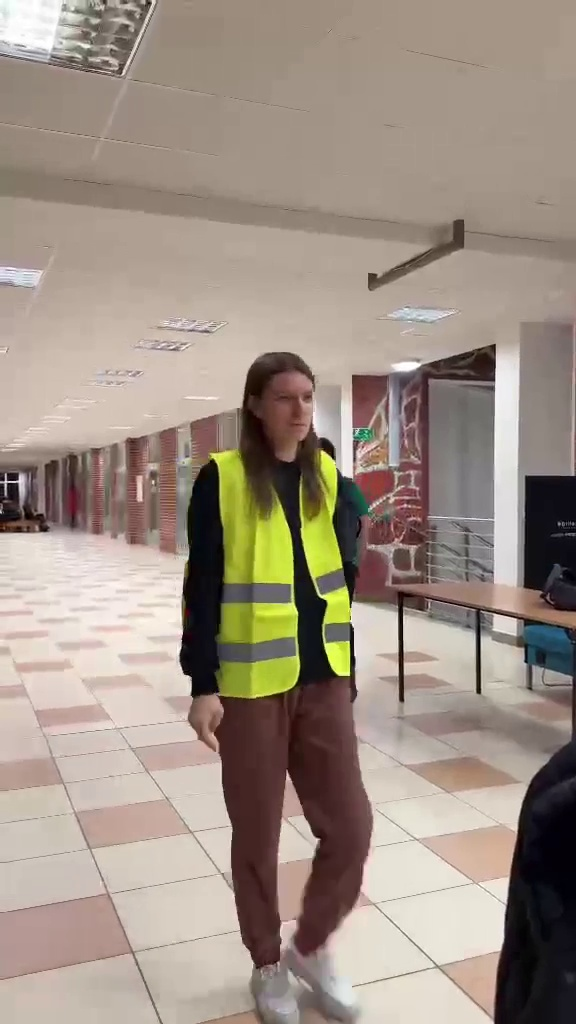vest: (181, 350, 370, 961)
